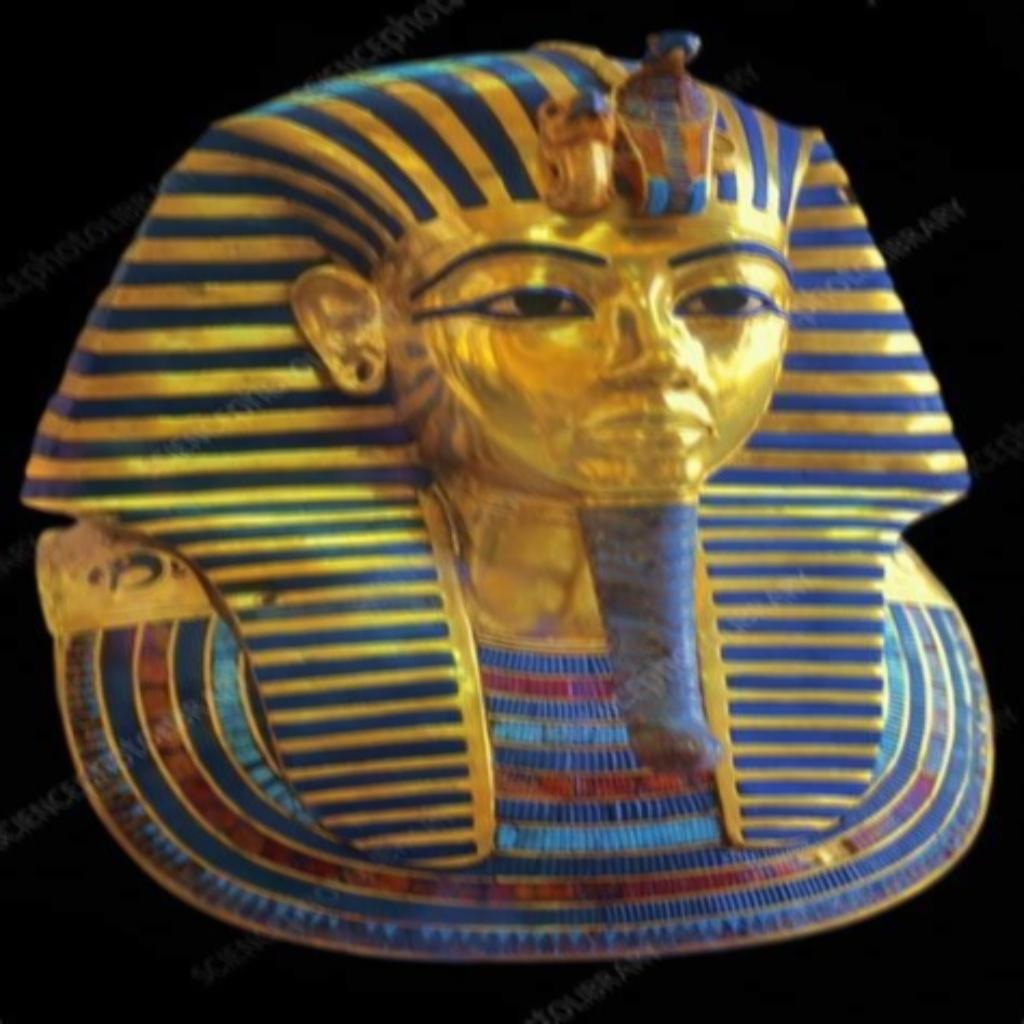Mask of Tutankhamun: (17, 28, 998, 962)
